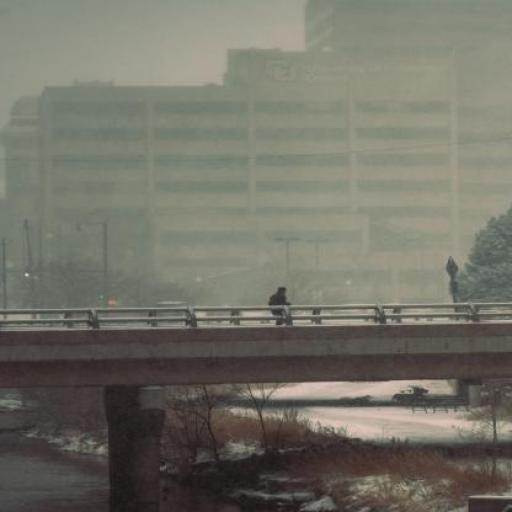street light: (75, 220, 110, 308)
